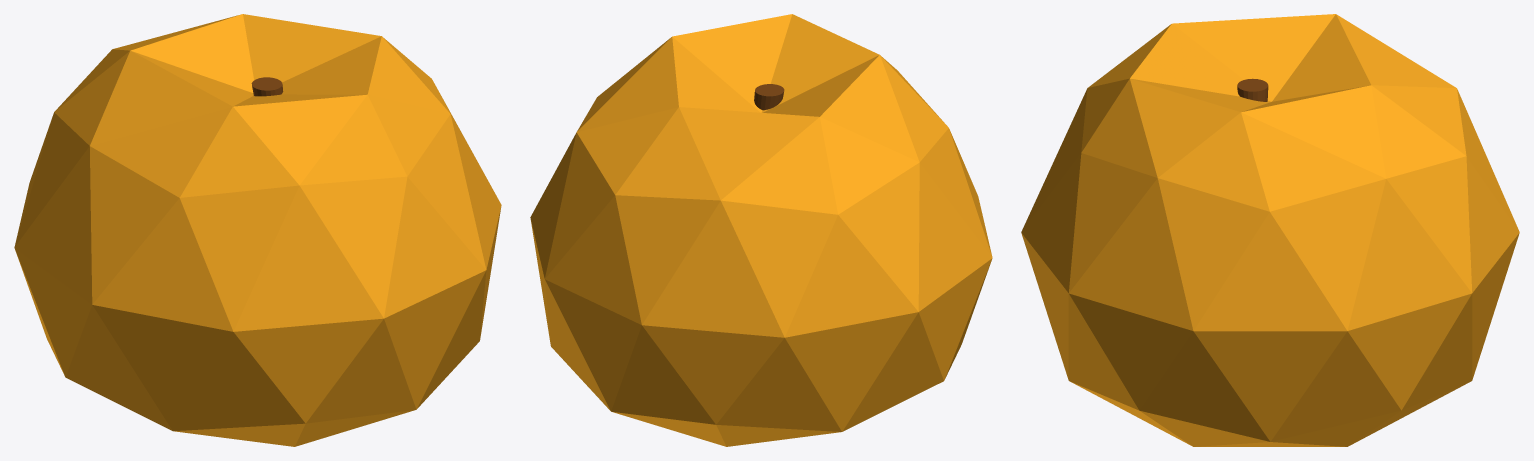
Rendered from Lemon.fbx.
3 views of the same model, side by side, from view 1: azimuth 30°, elevation 25°; view 2: azimuth 150°, elevation 25°; view 3: azimuth 270°, elevation 25° (orthographic). The views are drawn at different scales.
Visible parts, largest first — view 1: Lemon - V1; view 2: Lemon - V1; view 3: Lemon - V1.
Boxes of the visible parts, x1,y1,x2,y2 form: Lemon - V1: (14,14,501,446); Lemon - V1: (530,14,992,446); Lemon - V1: (1021,14,1519,446).
Size of the model in its own units: 15 by 12 by 16.
